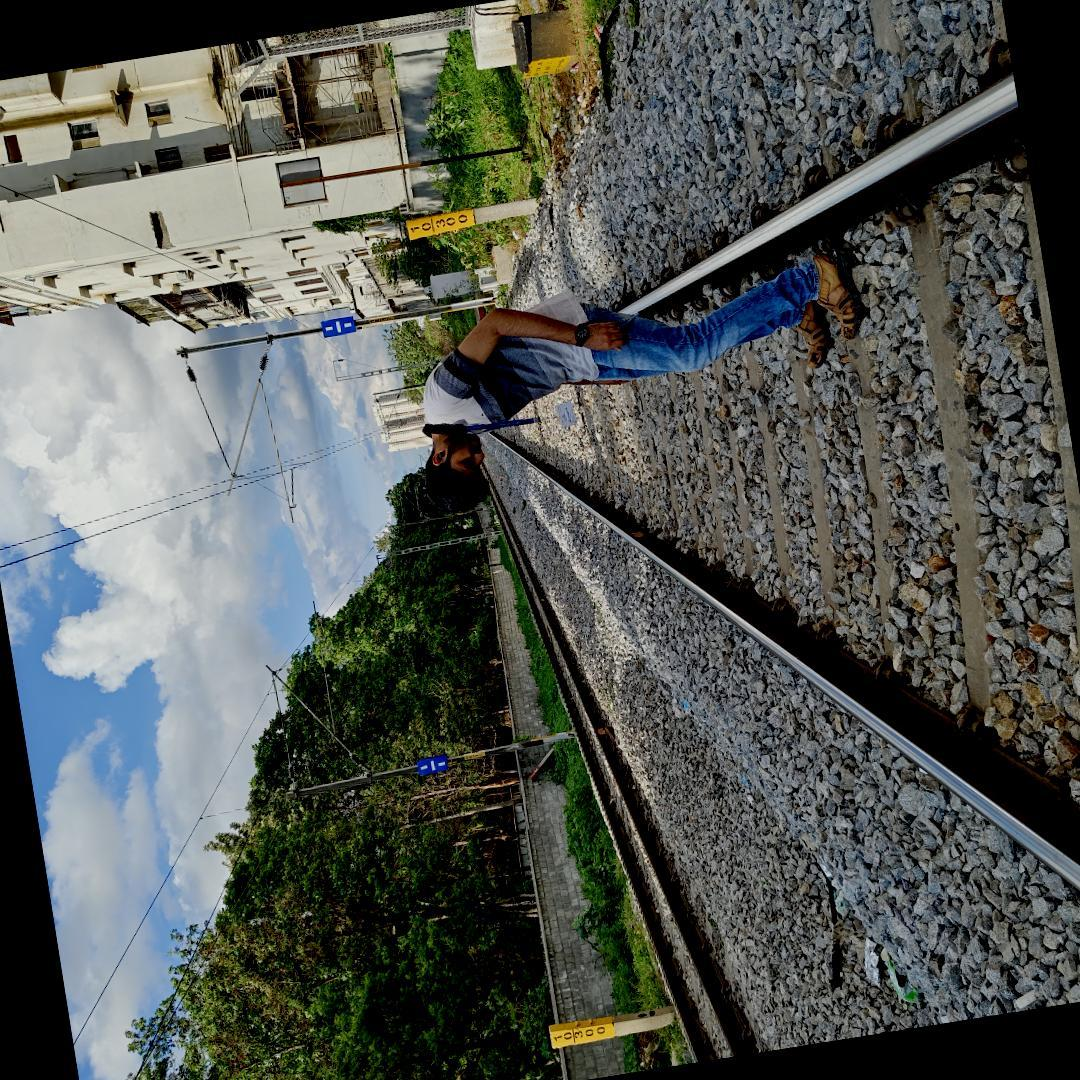standing: (394, 240, 862, 529)
